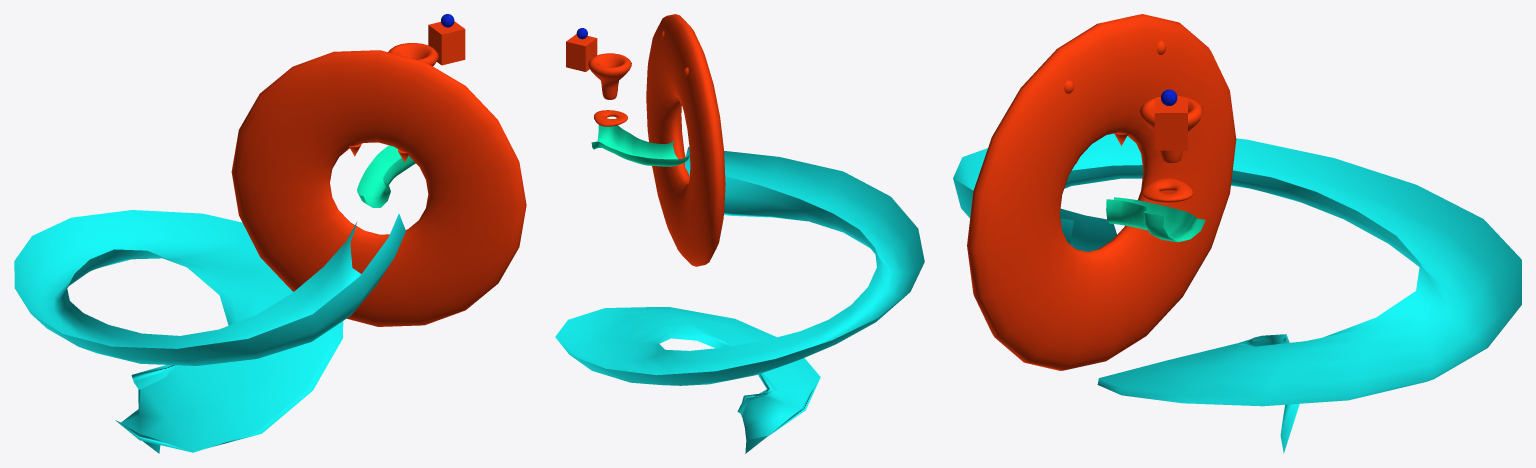
The picture shows the model from 3 angles, left to right: view 1: azimuth 30°, elevation 25°; view 2: azimuth 150°, elevation 25°; view 3: azimuth 270°, elevation 25°; orthographic projection. The views are drawn at different scales.
Parts seen in each view (by area): view 1: Object_5, Object_3, Object_4; view 2: Object_3, Object_5, Object_4; view 3: Object_5, Object_3, Object_4.
Part boxes in pixels (x1,y1,x2,y2): Object_5: (231, 21, 526, 326); Object_3: (14, 210, 405, 453); Object_4: (357, 145, 415, 207); Object_3: (555, 147, 924, 453); Object_5: (566, 14, 725, 266); Object_4: (591, 125, 689, 166); Object_5: (967, 14, 1236, 370); Object_3: (953, 133, 1521, 453); Object_4: (1106, 197, 1205, 242).
Size of the model in its own units: 68.08 by 68.73 by 68.42.
